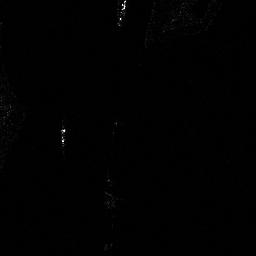ship: (115, 1, 129, 25), (59, 127, 67, 145)
